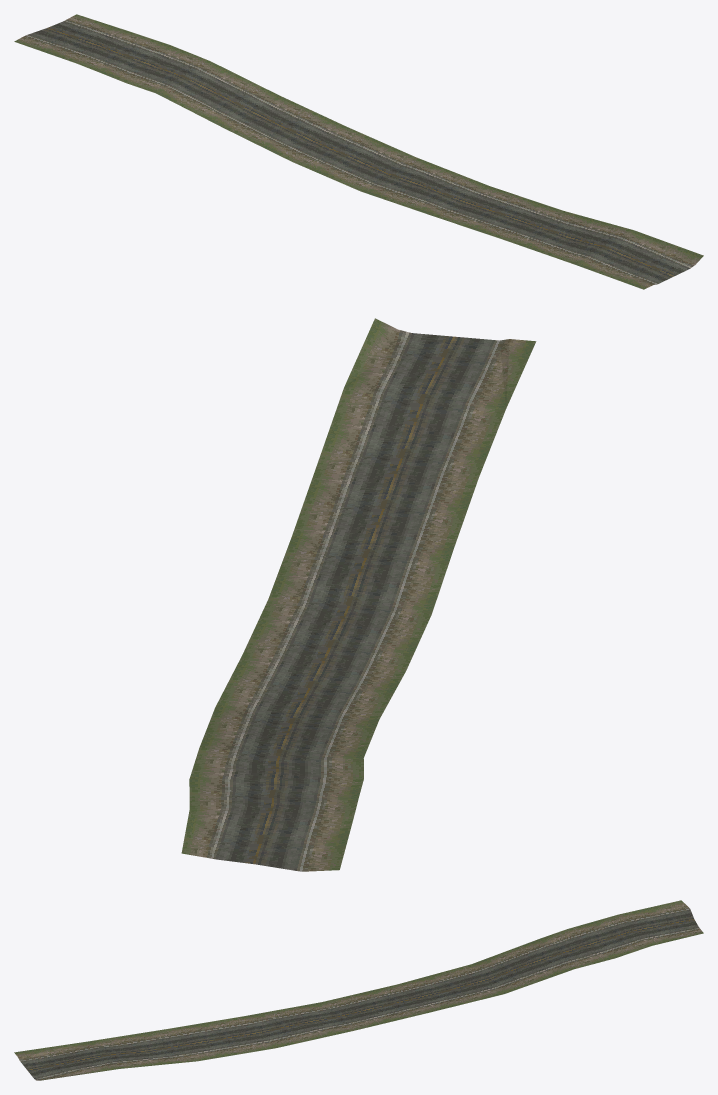
File: lodcunte_roads12.obj
3 renders of one model, top to bottom at view 1: azimuth 30°, elevation 25°; view 2: azimuth 150°, elevation 25°; view 3: azimuth 270°, elevation 25°, orthographic. The views are drawn at different scales.
Parts seen in each view (by area): view 1: LODcunte_roads12; view 2: LODcunte_roads12; view 3: LODcunte_roads12.
Part boxes in pixels (bbox=[...]): LODcunte_roads12: bbox=[14, 14, 703, 289]; LODcunte_roads12: bbox=[181, 318, 536, 871]; LODcunte_roads12: bbox=[14, 900, 703, 1080].
Size of the model in its own units: 93.53 by 11.35 by 184.
1 material, 1 textured.
